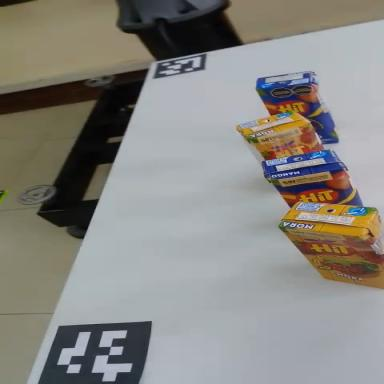HIT-MANGO: (253, 59, 342, 163), (263, 150, 362, 207)
HIT-MORA: (276, 200, 384, 289), (236, 107, 325, 164)
cara_F: (257, 68, 338, 164), (274, 228, 384, 289), (269, 169, 362, 208), (251, 122, 324, 162)
